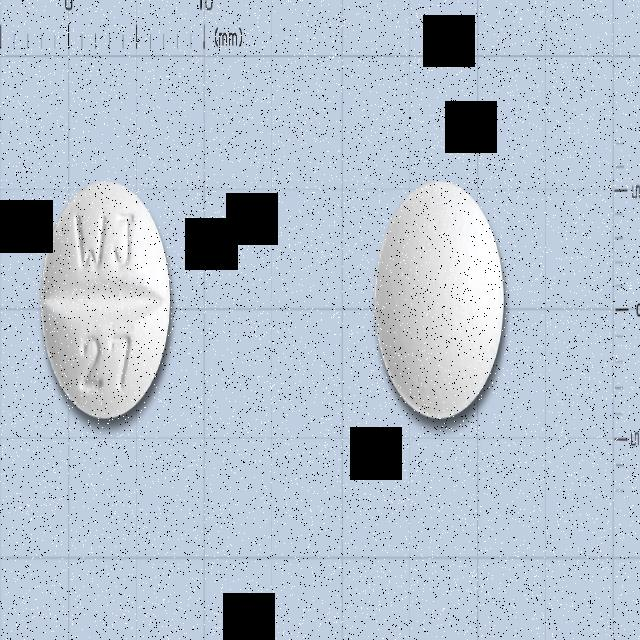Megarokshin: (41, 182, 171, 422)
